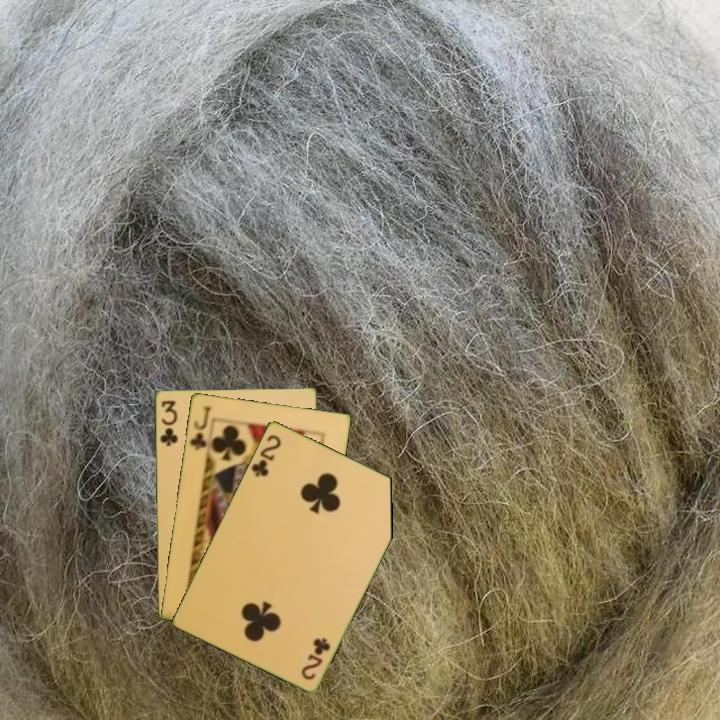2c: (297, 634, 333, 683), (248, 431, 284, 479)
3c: (156, 397, 180, 448)
Jc: (187, 402, 213, 453)
